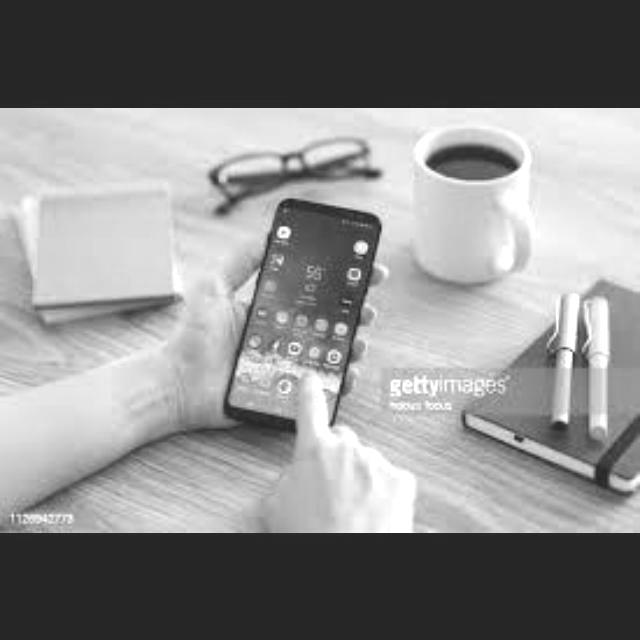fake: (212, 182, 386, 456)
